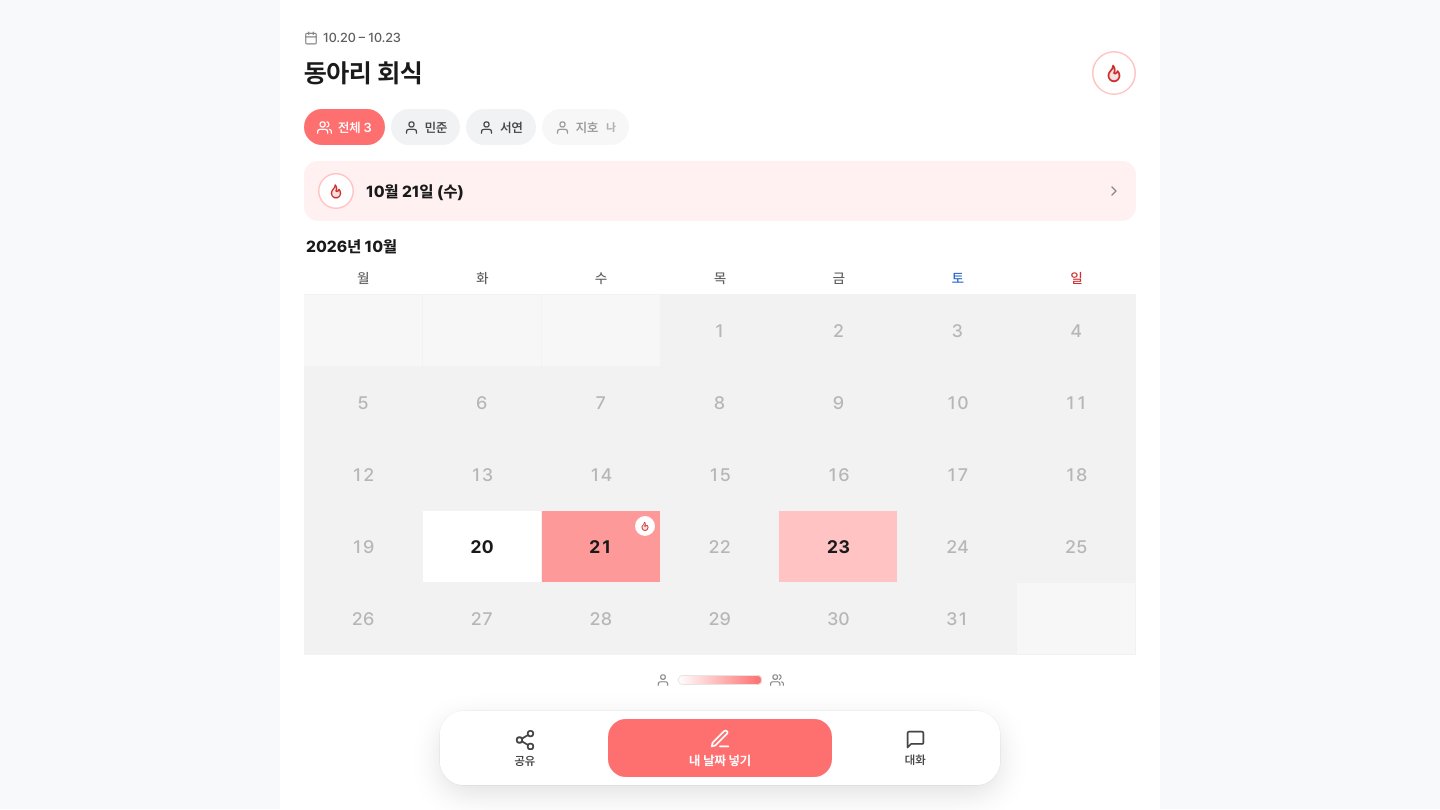
Scenario: 사람 고르기·실험 상태·명단 순서(Codex 1차 반영) › 명단 창에서 안 되는 사람 목록도 나를 맨 앞에 둔다(🙆‍♂️는 붙이지 않는다)
Expected: the heading "동아리 회식" is shown, [304,58,422,88]
Click the button "20".
click(482, 547)  # box [423,511,542,583]
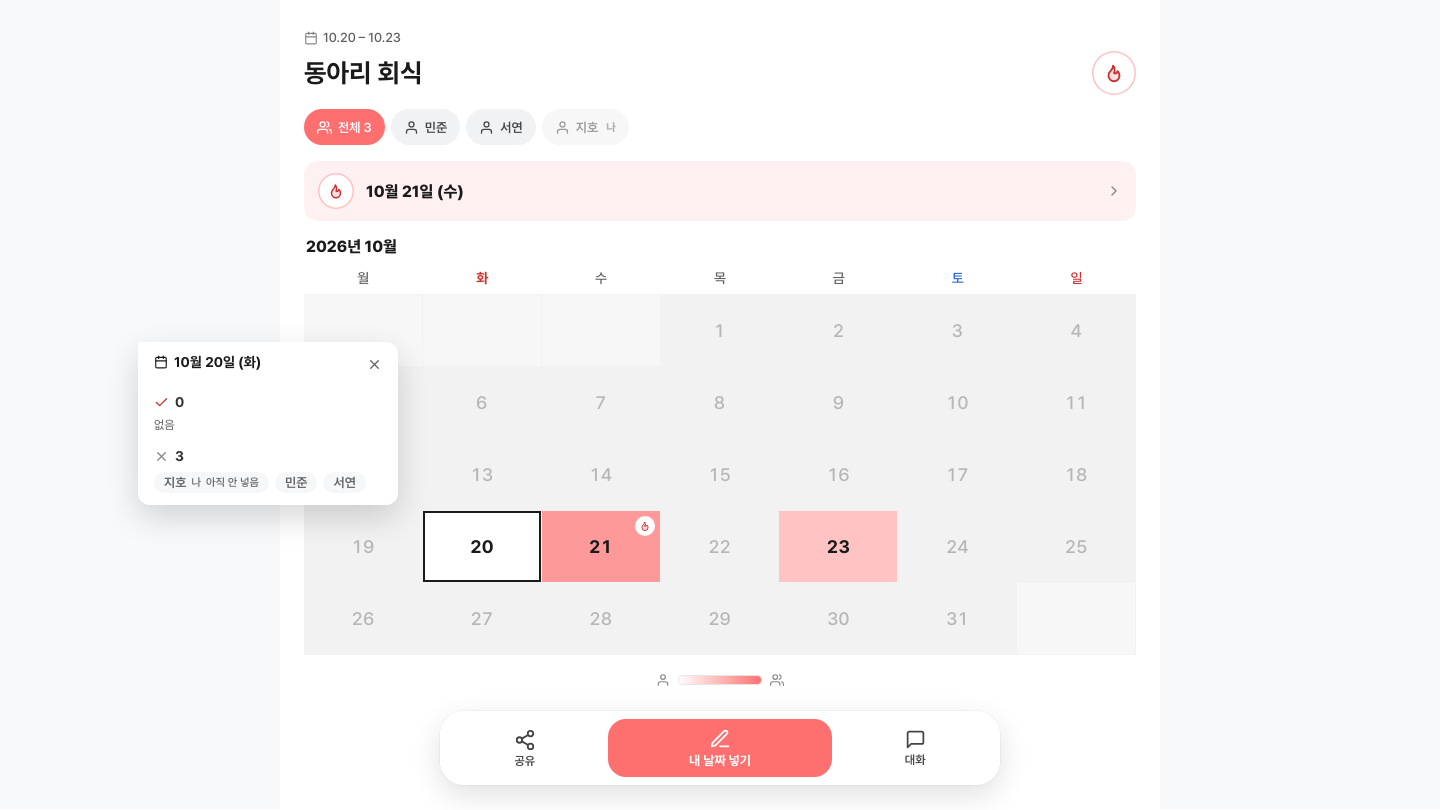
Result: the text "없음" is shown at [154,418,175,432]
Result: the text "지호 나 아직 안 넣음" is shown at [154,472,269,493]
